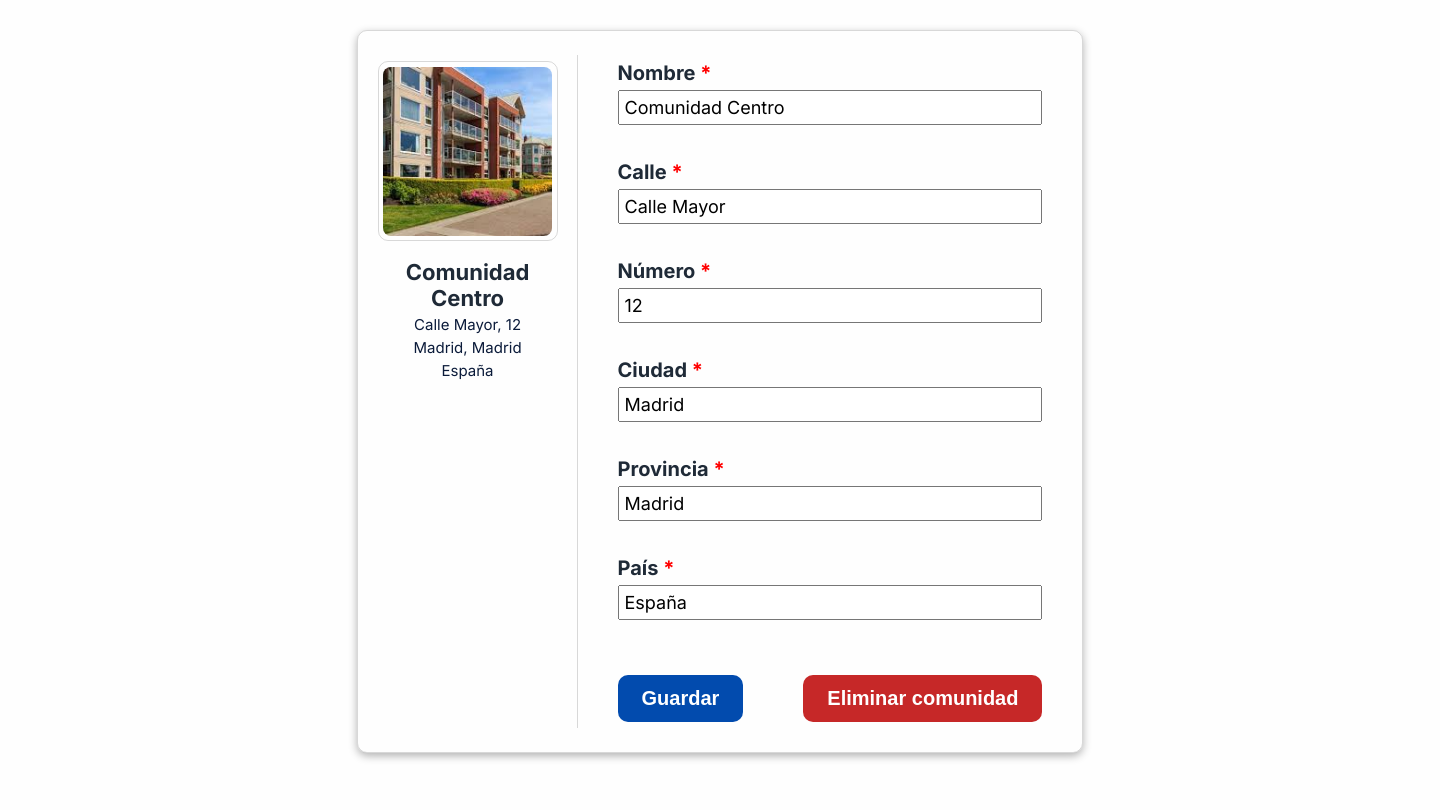
Test: CommunitySettingsForm component test suite › renders the current community data and toggles the delete confirmation
Expected: the picture with alt text "Imagen de la comunidad Comunidad Centro" is shown, left=383, top=66, right=552, bottom=236
Expected: the text "Comunidad Centro" is shown, left=406, top=259, right=529, bottom=311
Click the button "Eliminar comunidad". click: coordinates (923, 698)
box: left=803, top=675, right=1042, bottom=722
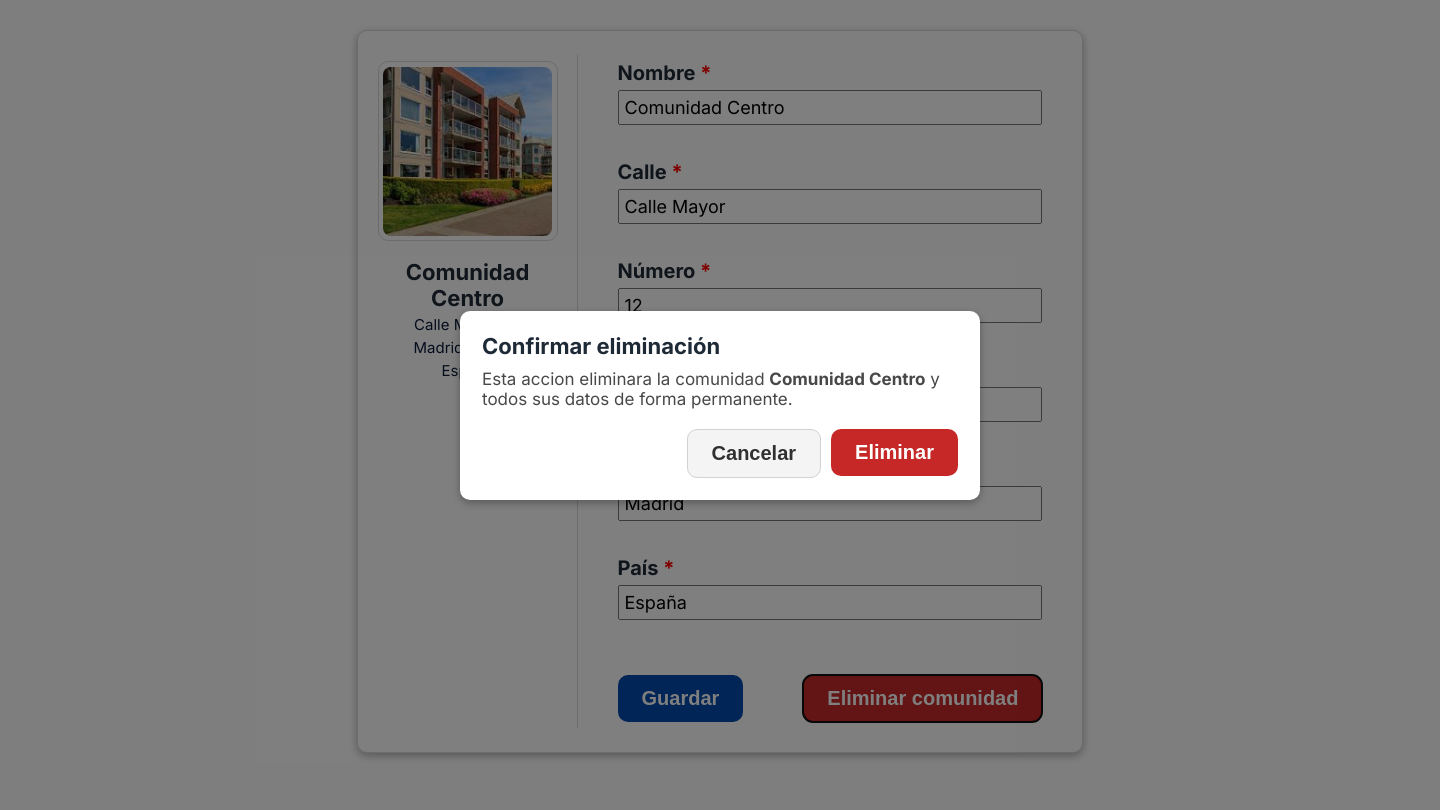
Expected: the dialog "Confirmar eliminación" is shown, left=460, top=310, right=980, bottom=500
Expected: the text "Esta accion eliminara la comunidad" is shown, left=482, top=368, right=769, bottom=388
Click the button "Cancelar". click: coordinates (754, 453)
box: left=687, top=428, right=821, bottom=478
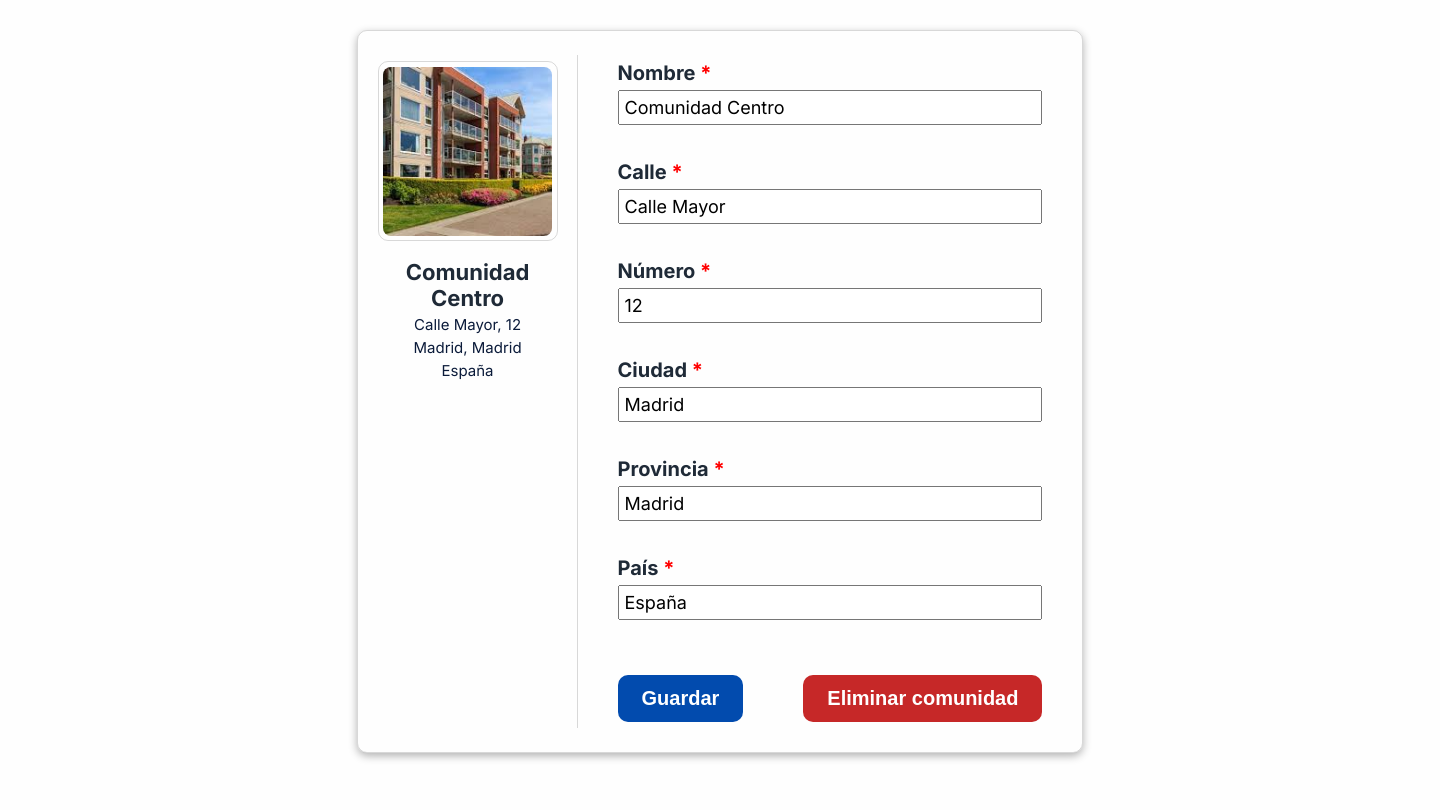
Expected: the heading "Confirmar eliminación" is gone
